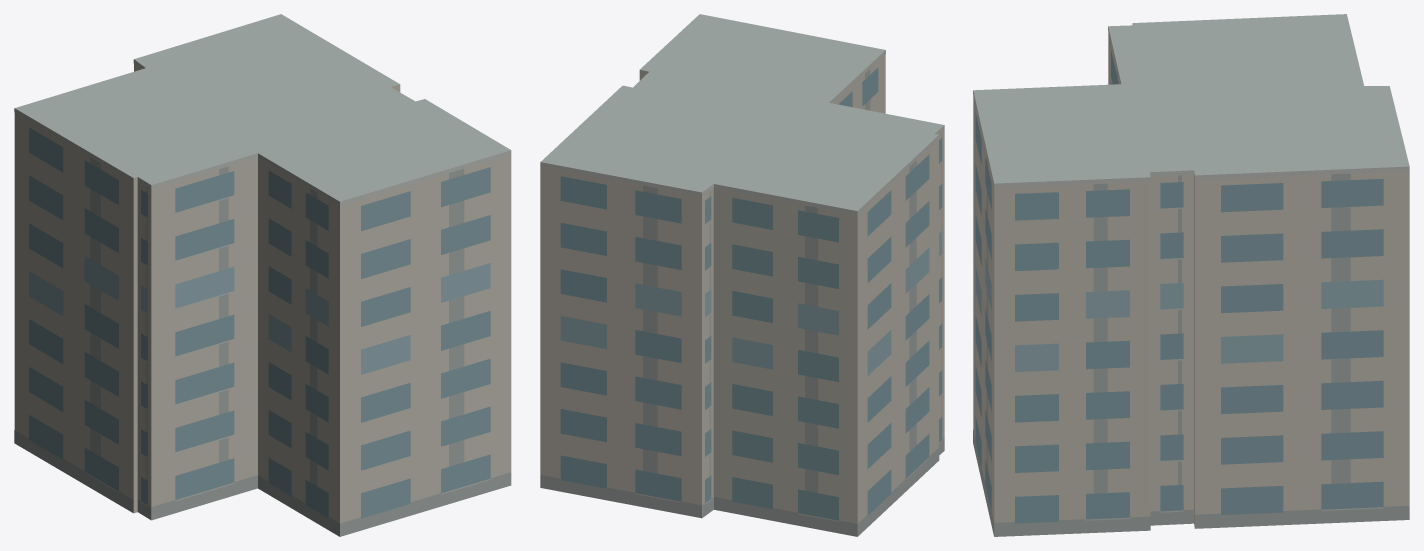
Rendered from survey-upis-32664875.glb.
3 renders of one model, left to right at view 1: azimuth 30°, elevation 25°; view 2: azimuth 150°, elevation 25°; view 3: azimuth 270°, elevation 25°, orthographic. The views are drawn at different scales.
Visible parts, largest first — view 1: survey-upis-32664875.tmp; view 2: survey-upis-32664875.tmp; view 3: survey-upis-32664875.tmp.
Boxes of the visible parts, box(x1,y1,x2,y2) form: survey-upis-32664875.tmp: box(14, 14, 511, 536); survey-upis-32664875.tmp: box(540, 14, 944, 536); survey-upis-32664875.tmp: box(973, 14, 1409, 536).
Size of the model in its own units: 19.46 by 18.9 by 21.17.
